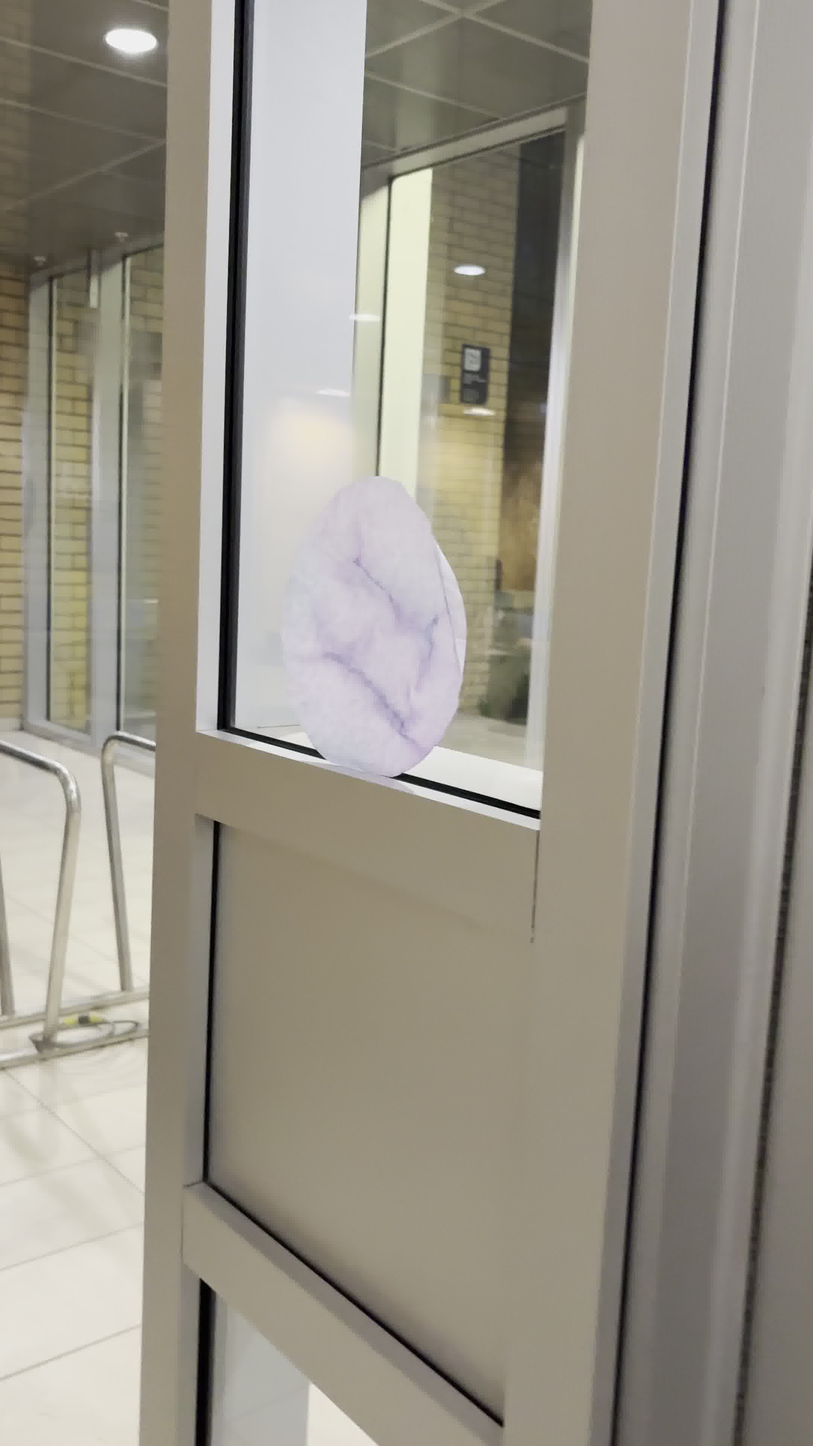Target: (278, 475, 469, 785)
